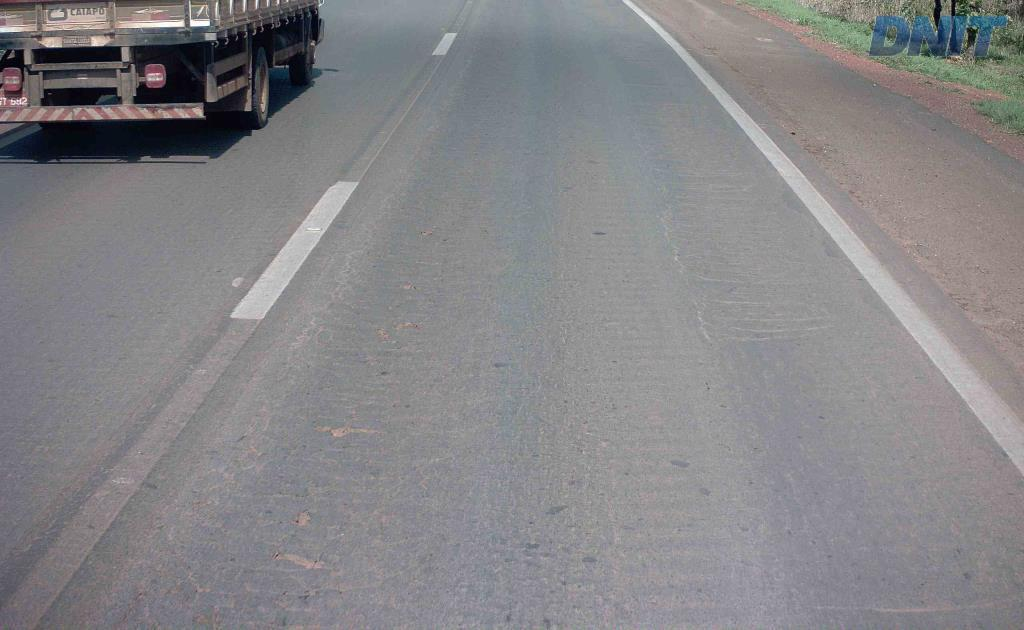pothole: (307, 413, 392, 440), (272, 546, 334, 580), (285, 503, 314, 532)
